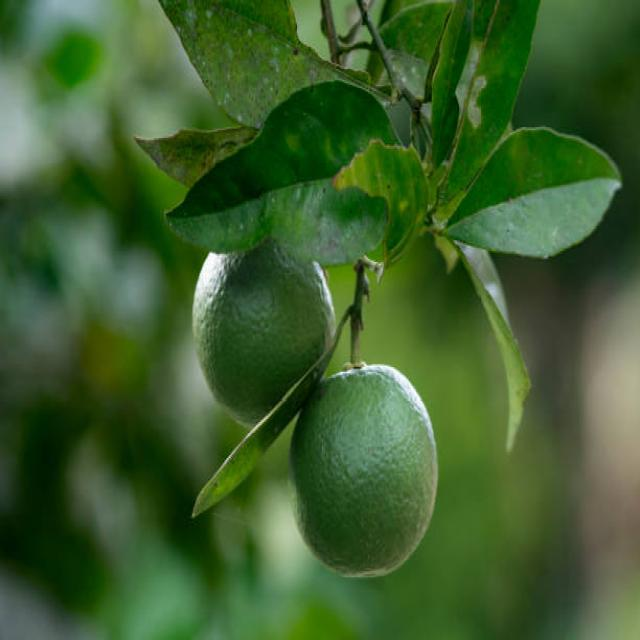Unripe: (291, 360, 438, 576), (190, 222, 336, 425)
